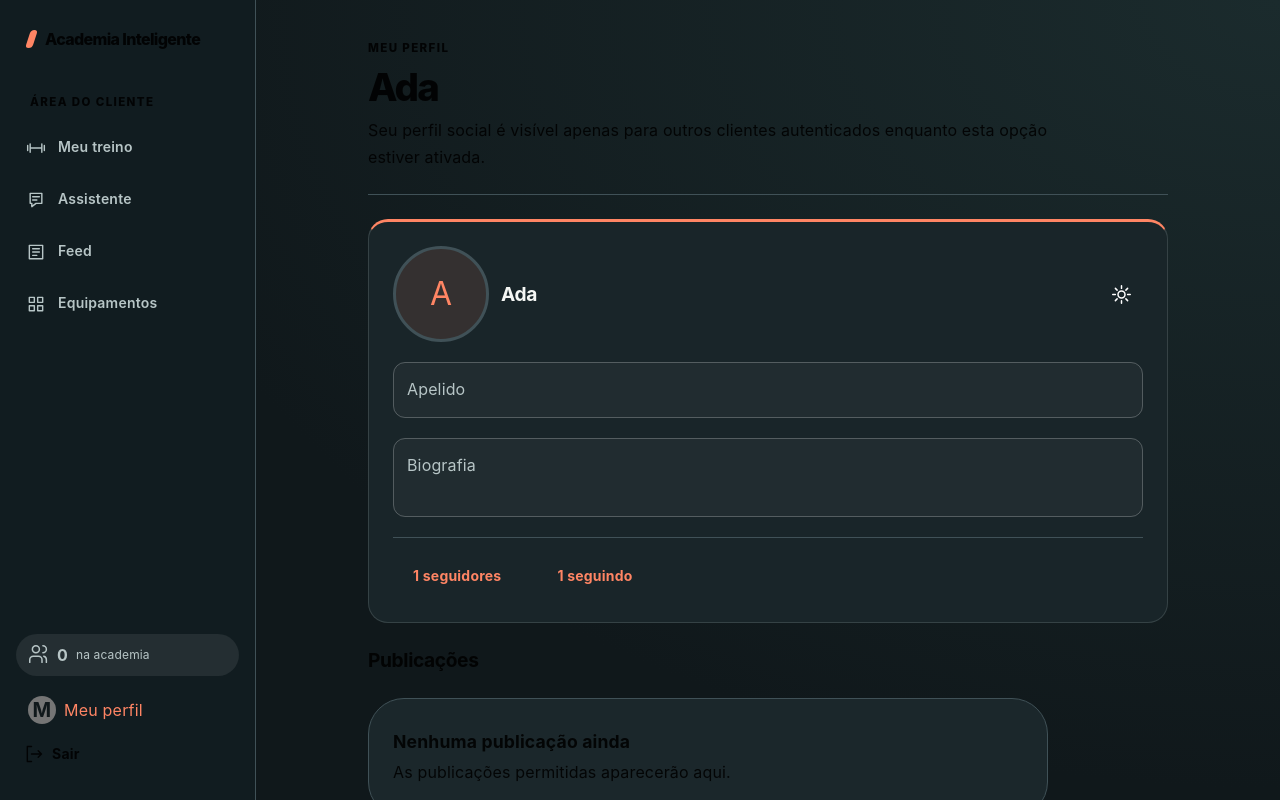
Test case: profile count opens the following list
The width and height of the screenshot is (1280, 800).
Step 1. Click the button "1 seguindo" → click(595, 576), box [537, 554, 652, 598]
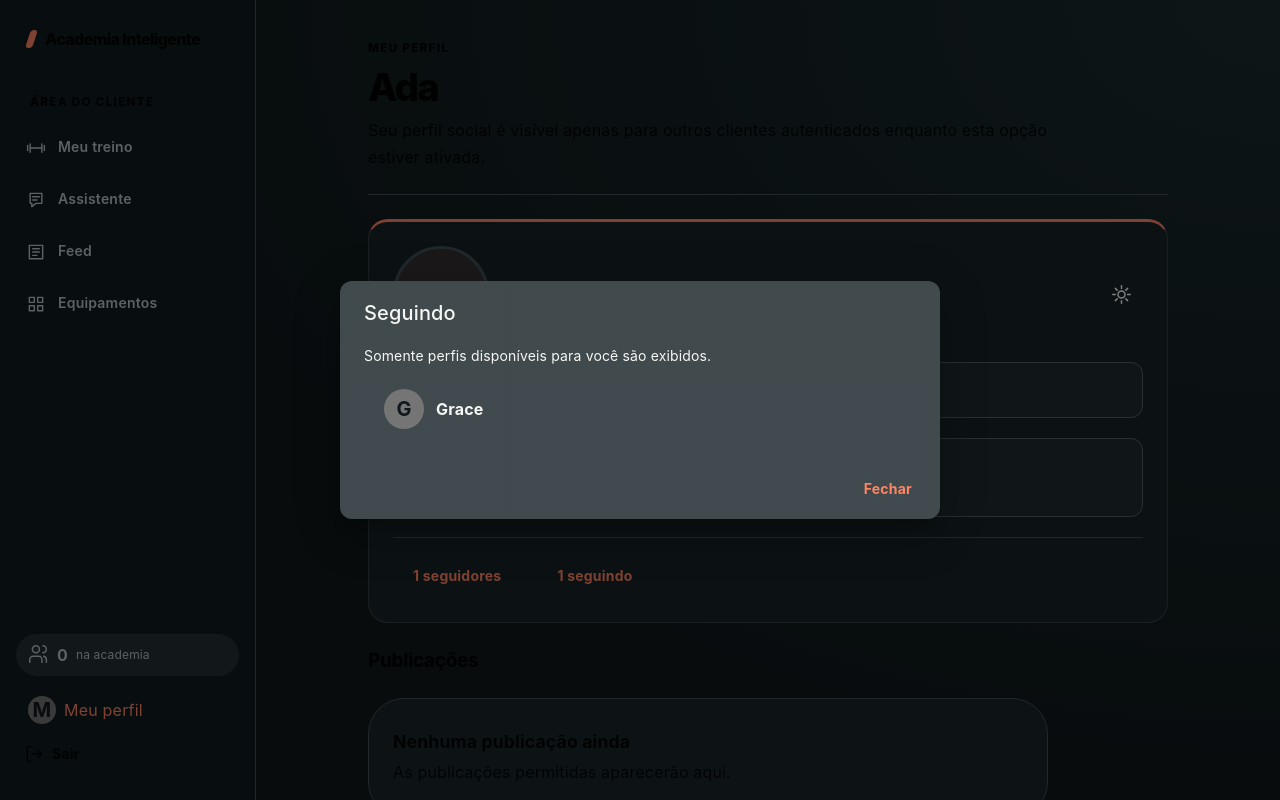
Now the dialog "Seguindo" is shown, box [340, 281, 940, 519]
